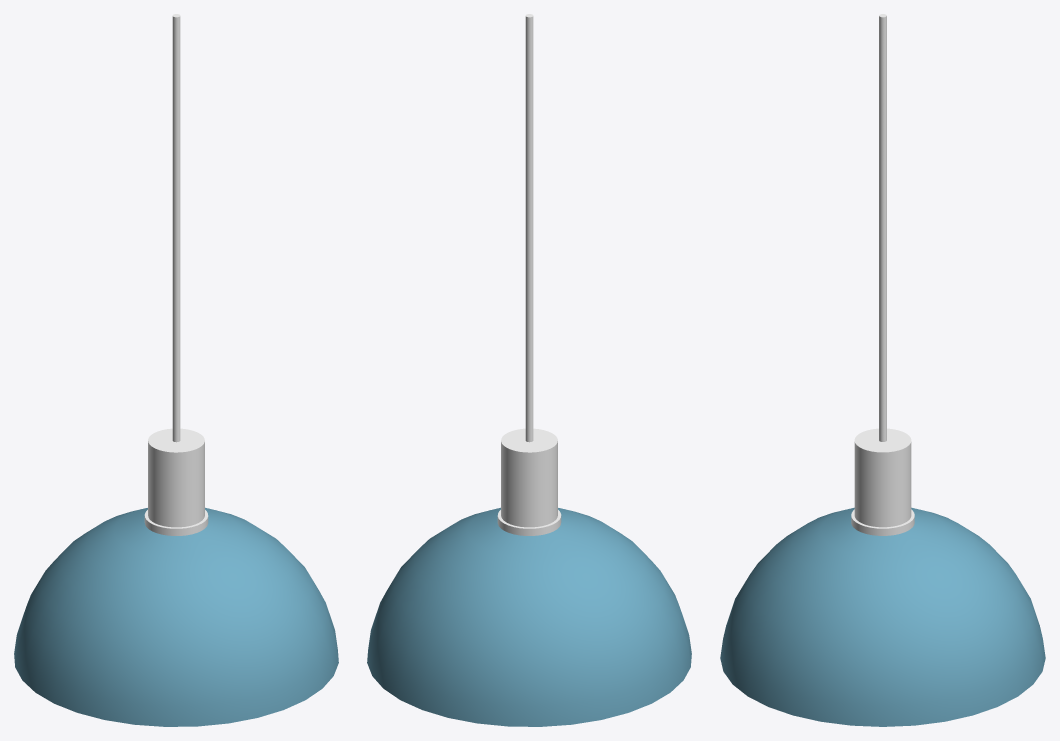
The model's file is Ceiling lamp.FBX.
The picture shows the model from 3 angles, left to right: view 1: azimuth 30°, elevation 25°; view 2: azimuth 150°, elevation 25°; view 3: azimuth 270°, elevation 25°; orthographic projection.
Visible parts, largest first — view 1: ceiling lamp; view 2: ceiling lamp; view 3: ceiling lamp.
Part boxes in pixels (x1=…): ceiling lamp: x1=14, y1=14, x2=338, y2=726; ceiling lamp: x1=367, y1=14, x2=691, y2=726; ceiling lamp: x1=720, y1=14, x2=1045, y2=726.
Size of the model in its own units: 43.97 by 95.79 by 43.97.
